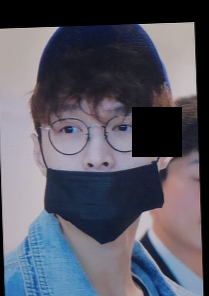mask_weared_incorrect: (42, 102, 165, 245)
